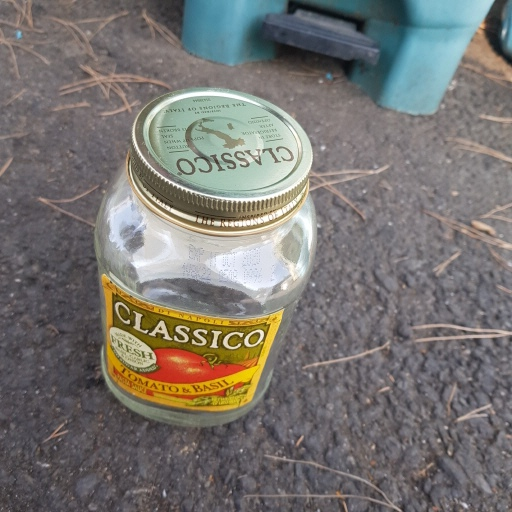Glass_5: (87, 85, 322, 432)
